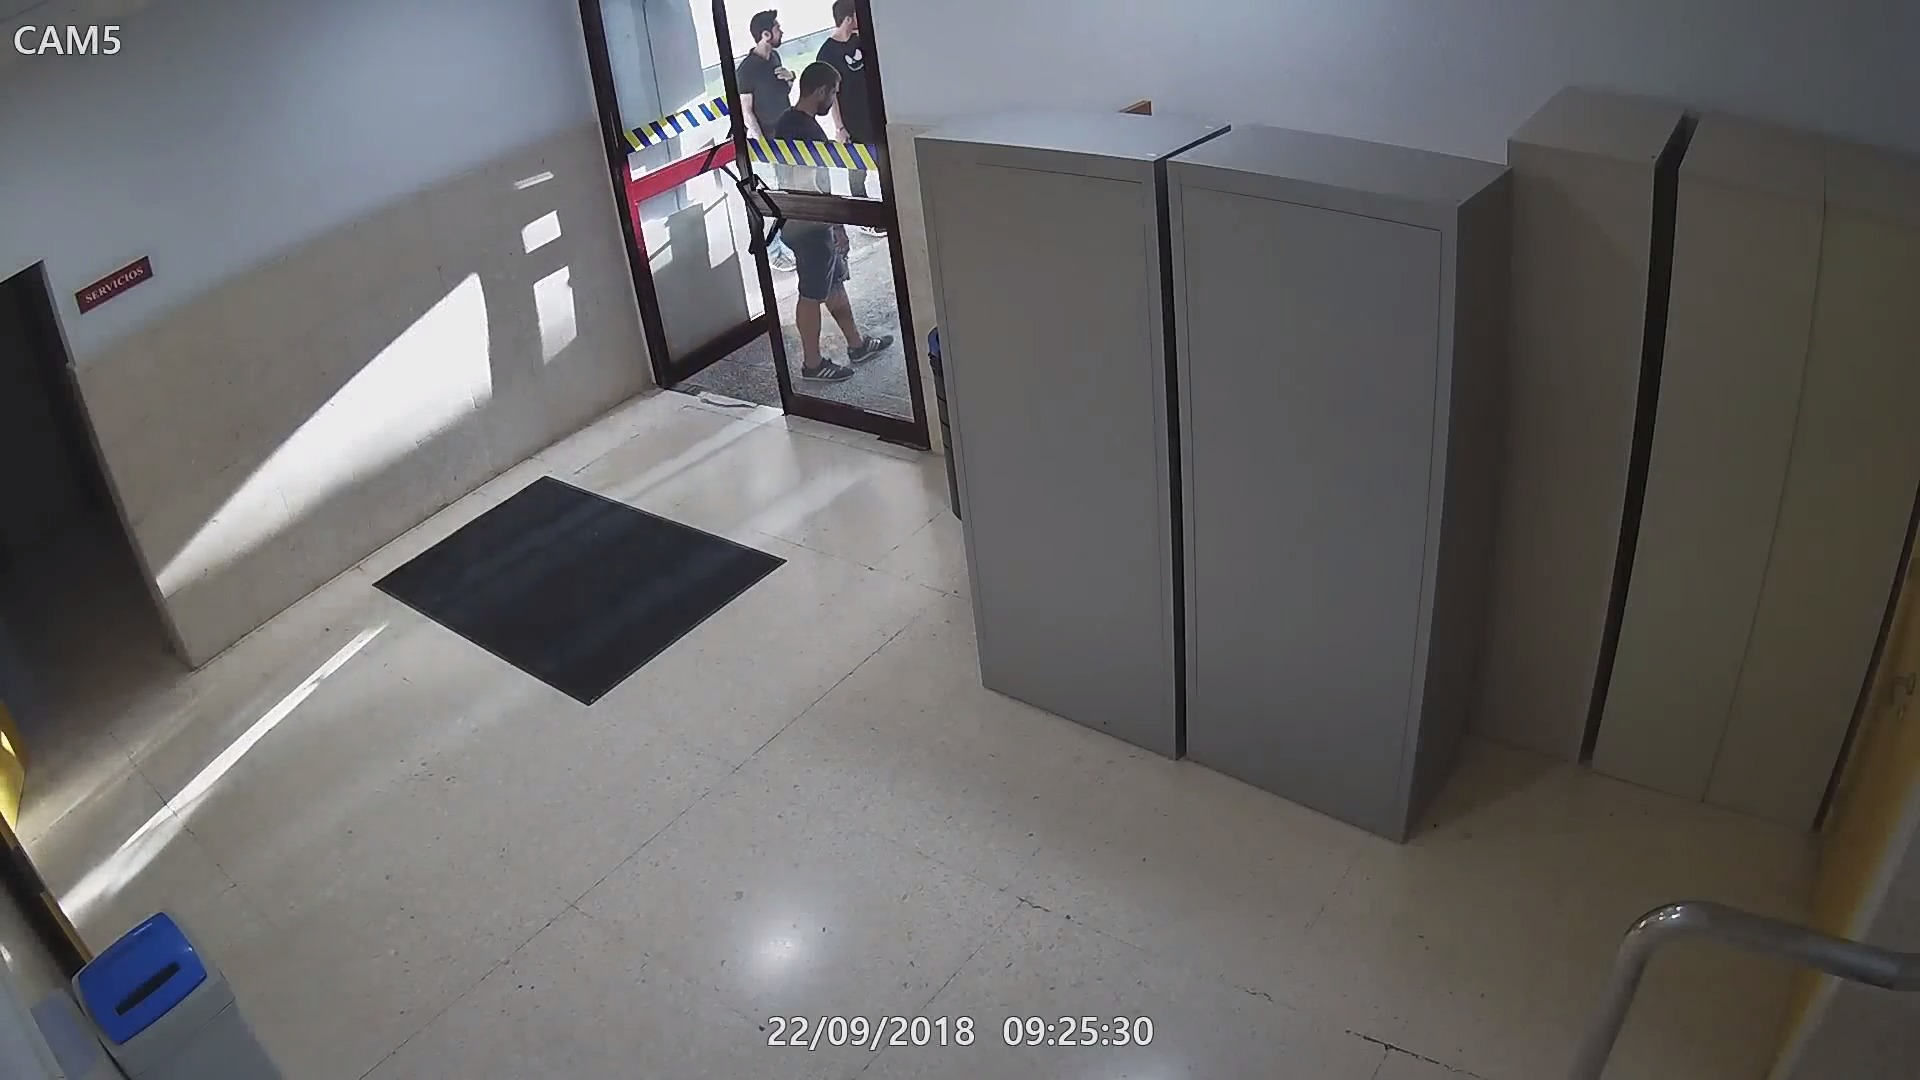Handgun: (829, 228, 862, 289)
